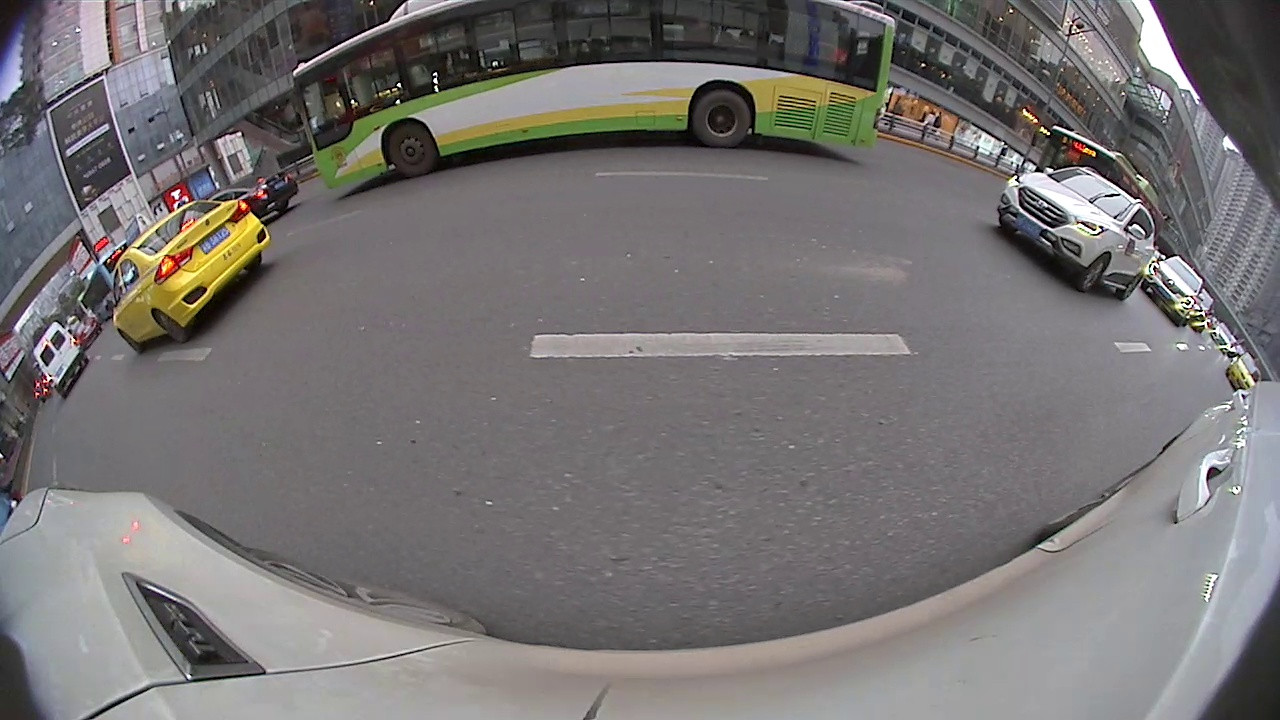bus: (289, 3, 897, 197)
car: (108, 192, 269, 356), (1001, 164, 1156, 308), (1137, 258, 1207, 330), (32, 320, 87, 397)
front: (385, 122, 439, 179), (1075, 253, 1110, 295)
rear: (694, 87, 754, 152), (153, 309, 189, 341)
